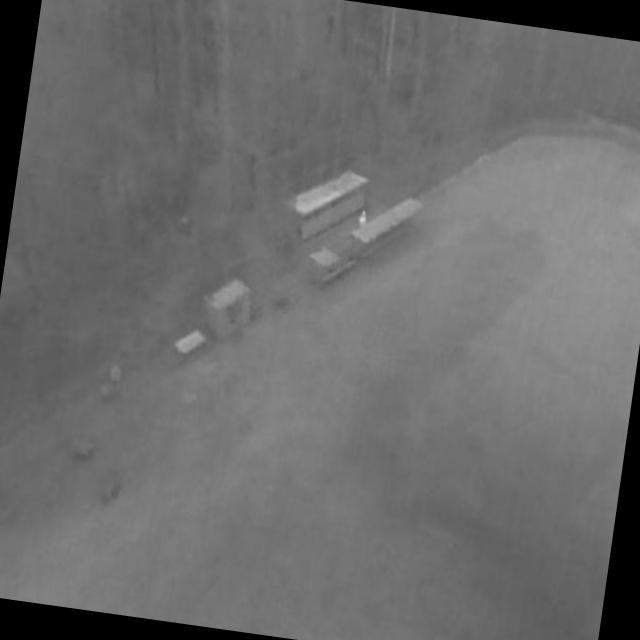person: (359, 211, 370, 228)
